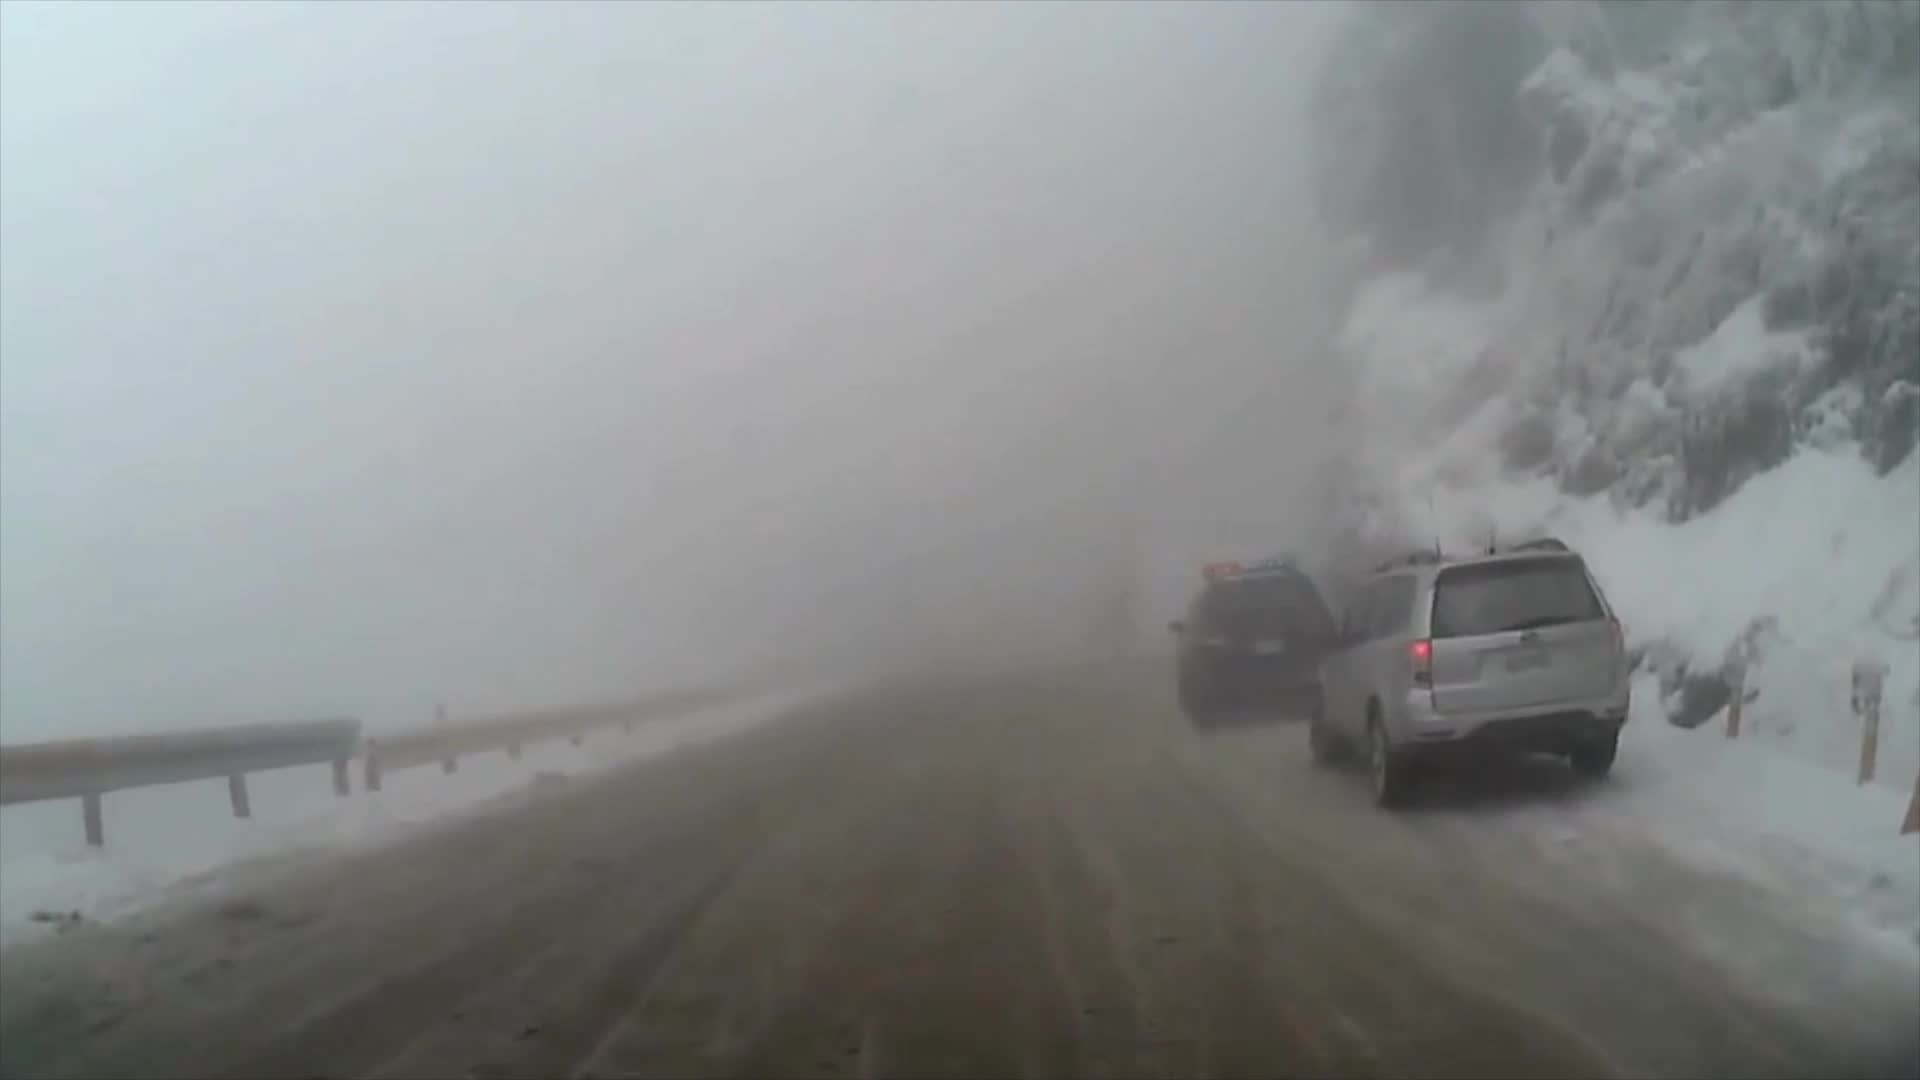vehicle: (1308, 535, 1634, 811), (1168, 551, 1342, 727)
